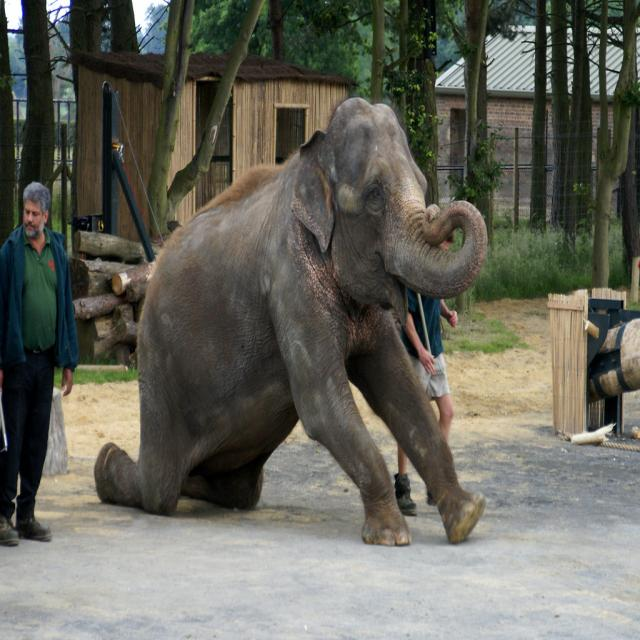elephant: (95, 97, 491, 546)
